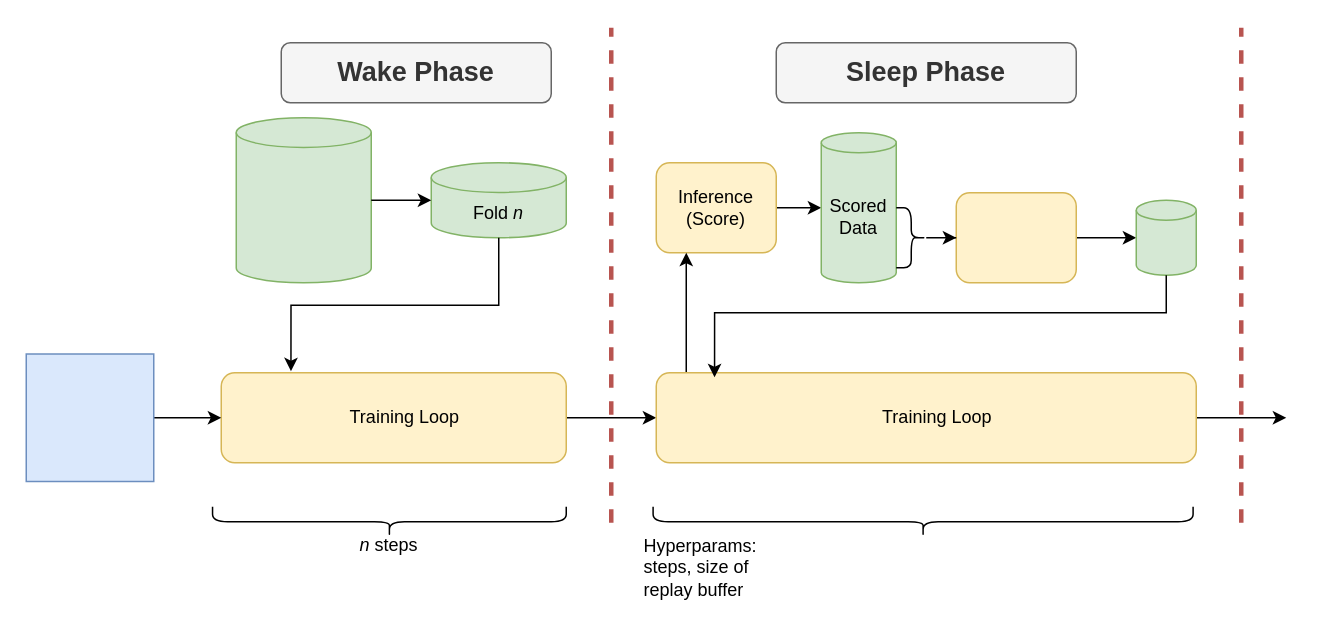
This 1325x636 diagram has some shape labels left out. Each missing label, with the box of its shape:
Corpus: (235, 116, 371, 283)
Model (RoBERTa Small): (25, 352, 154, 482)
n steps/ n replays: (652, 505, 1193, 537)
Re-contextualize: (955, 191, 1076, 283)
